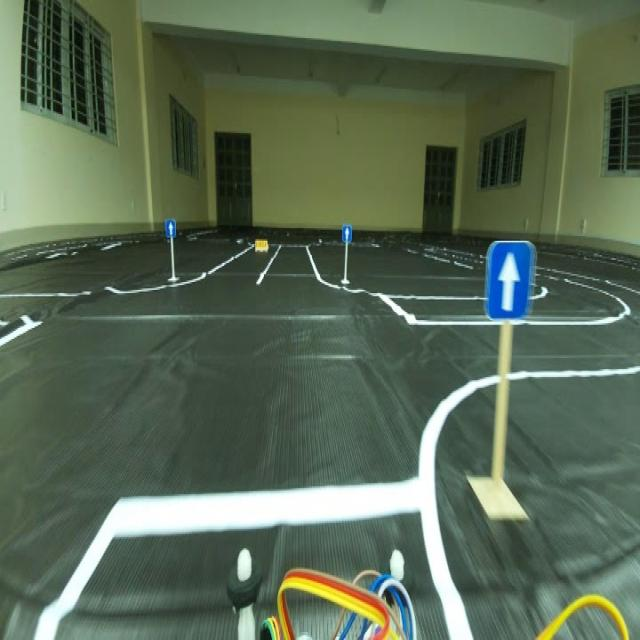onewayroad: (486, 241, 536, 326), (162, 216, 178, 238), (342, 224, 353, 242)
roadblock: (252, 236, 268, 255)
